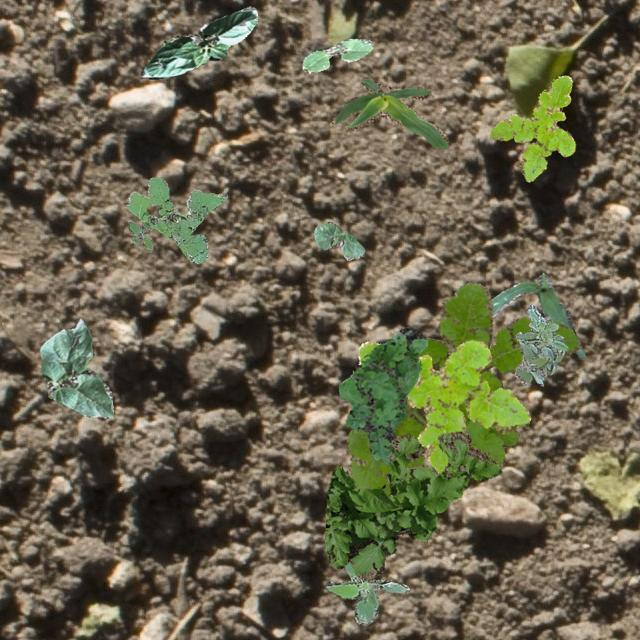crop: (140, 6, 256, 78), (330, 78, 448, 148), (490, 272, 584, 358), (38, 316, 114, 416), (300, 38, 372, 72), (312, 220, 363, 260)
weed: (344, 282, 580, 492), (324, 430, 501, 580), (356, 338, 530, 472), (338, 326, 428, 464), (490, 74, 574, 180), (126, 176, 226, 262), (324, 560, 408, 624), (514, 304, 566, 384), (126, 220, 152, 248)
